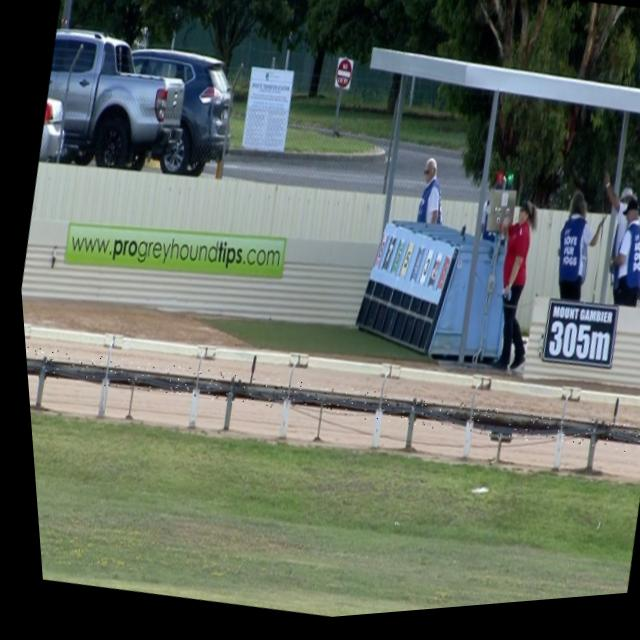rail: (21, 359, 640, 456)
